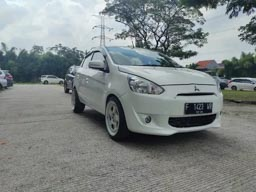plat: (184, 102, 213, 110)
